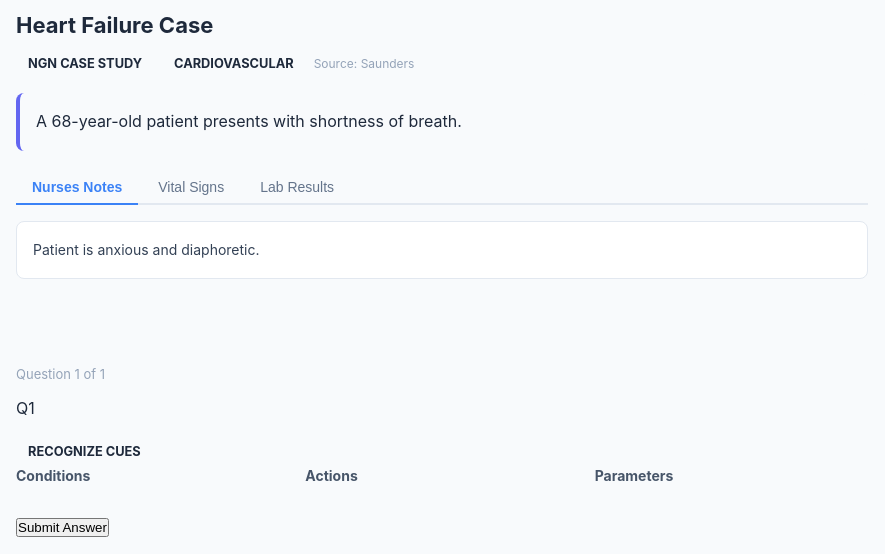
NGNCaseStudyComponent › shows safety warning when not validated
The width and height of the screenshot is (885, 554).
Click the button "Submit Answer": [62, 528] box [16, 518, 109, 537]
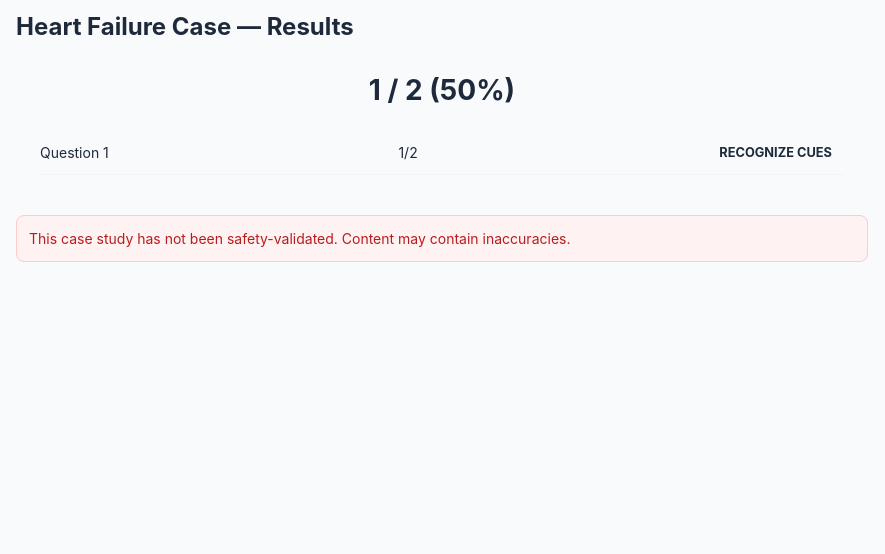
expect the text "This case study has not been safety-validated. Content may contain inaccuracies." is shown: met, box [16, 215, 868, 262]
